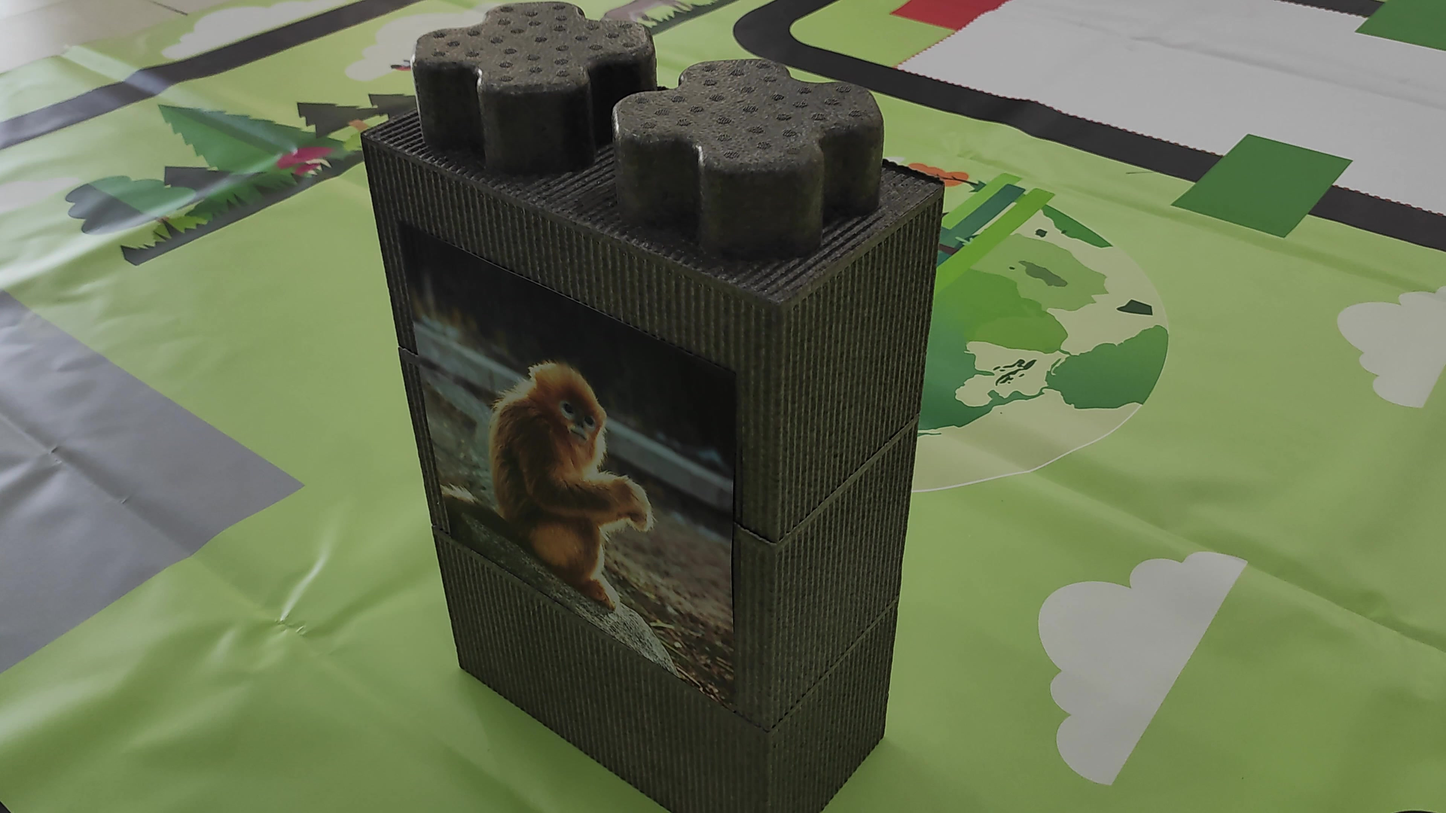monkey: (442, 315, 691, 630)
